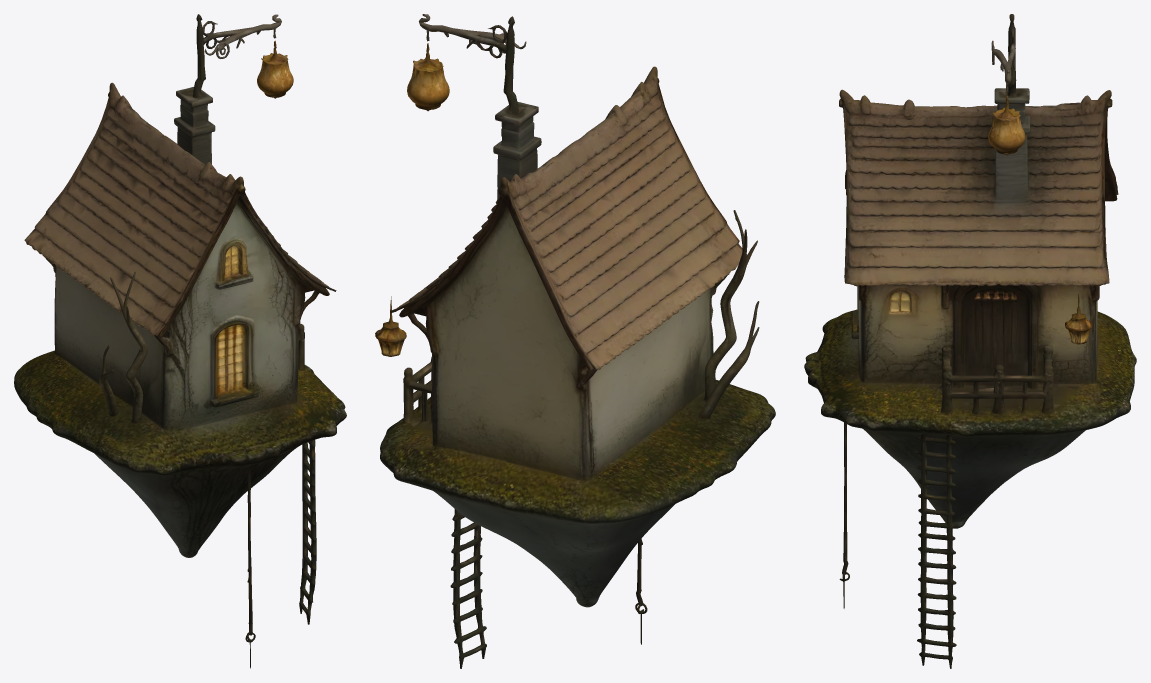
Rendered from pixellabs-floating-house-3416.glb.
3 views of the same model, side by side, from view 1: azimuth 30°, elevation 25°; view 2: azimuth 150°, elevation 25°; view 3: azimuth 270°, elevation 25° (orthographic). The views are drawn at different scales.
Visible parts, largest first — view 1: material; view 2: material; view 3: material.
Boxes of the visible parts, x1,y1,x2,y2 form: material: [14, 14, 346, 668]; material: [375, 14, 775, 668]; material: [804, 14, 1136, 668].
Bounding box in the file's own units: 0.5042 × 1.12 × 0.5444.
Materials: 1 (1 with a texture image).
